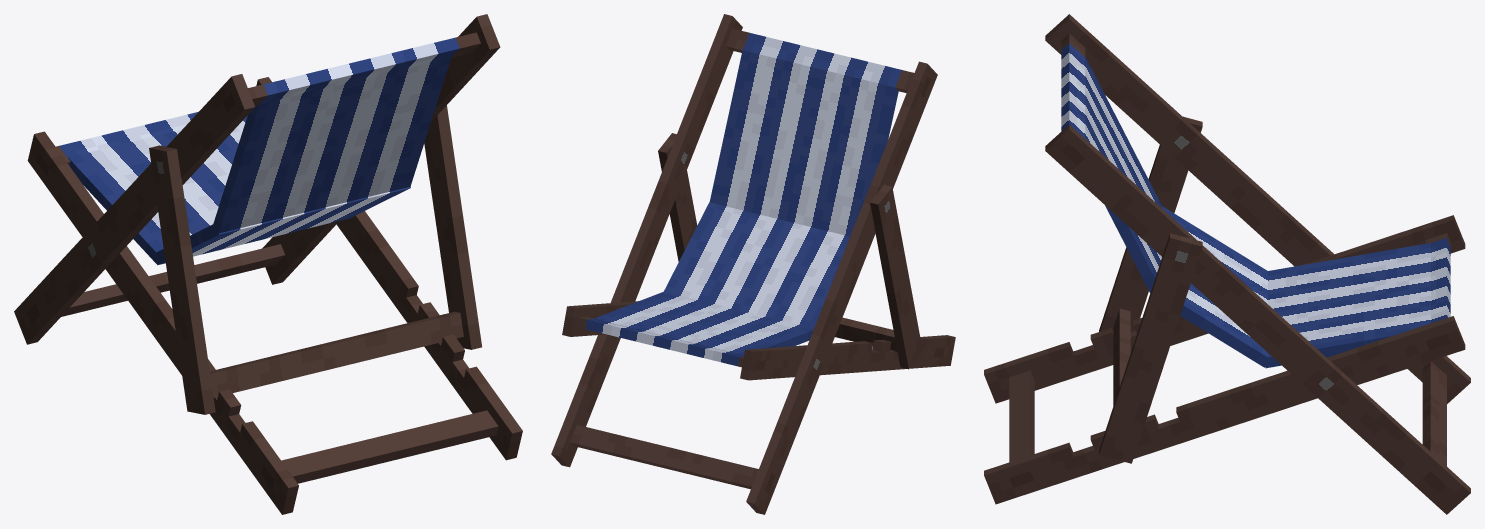
Rendered from Chaise longe.gltf.
The picture shows the model from 3 angles, left to right: view 1: azimuth 30°, elevation 25°; view 2: azimuth 150°, elevation 25°; view 3: azimuth 270°, elevation 25°; orthographic projection. The views are drawn at different scales.
Visible parts, largest first — view 1: Part_2-Local, Part_4-Local, Part_1-Local, Part_3-Local, Part_6-Local, Part_5-Local; view 2: Part_1-Local, Part_4-Local, Part_5-Local, Part_2-Local, Part_3-Local, Part_6-Local; view 3: Part_1-Local, Part_2-Local, Part_6-Local, Part_3-Local, Part_4-Local, Part_5-Local.
Part boxes in pixels (x1=…): Part_2-Local: x1=27, y1=77, x2=522, y2=514; Part_4-Local: x1=213, y1=58, x2=451, y2=233; Part_1-Local: x1=14, y1=14, x2=500, y2=344; Part_3-Local: x1=149, y1=105, x2=481, y2=414; Part_6-Local: x1=68, y1=115, x2=247, y2=265; Part_5-Local: x1=156, y1=186, x2=410, y2=264; Part_1-Local: x1=551, y1=14, x2=937, y2=514; Part_4-Local: x1=709, y1=50, x2=898, y2=236; Part_5-Local: x1=664, y1=202, x2=849, y2=328; Part_2-Local: x1=562, y1=301, x2=955, y2=380; Part_3-Local: x1=658, y1=133, x2=922, y2=369; Part_6-Local: x1=594, y1=291, x2=813, y2=355; Part_1-Local: x1=1045, y1=14, x2=1470, y2=514; Part_2-Local: x1=984, y1=215, x2=1465, y2=504; Part_6-Local: x1=1264, y1=243, x2=1430, y2=368; Part_3-Local: x1=1099, y1=116, x2=1202, y2=463; Part_4-Local: x1=1085, y1=57, x2=1162, y2=292; Part_5-Local: x1=1162, y1=206, x2=1270, y2=367.
Size of the model in its own units: 26 by 37.48 by 42.87.
6 materials, 6 textured.
